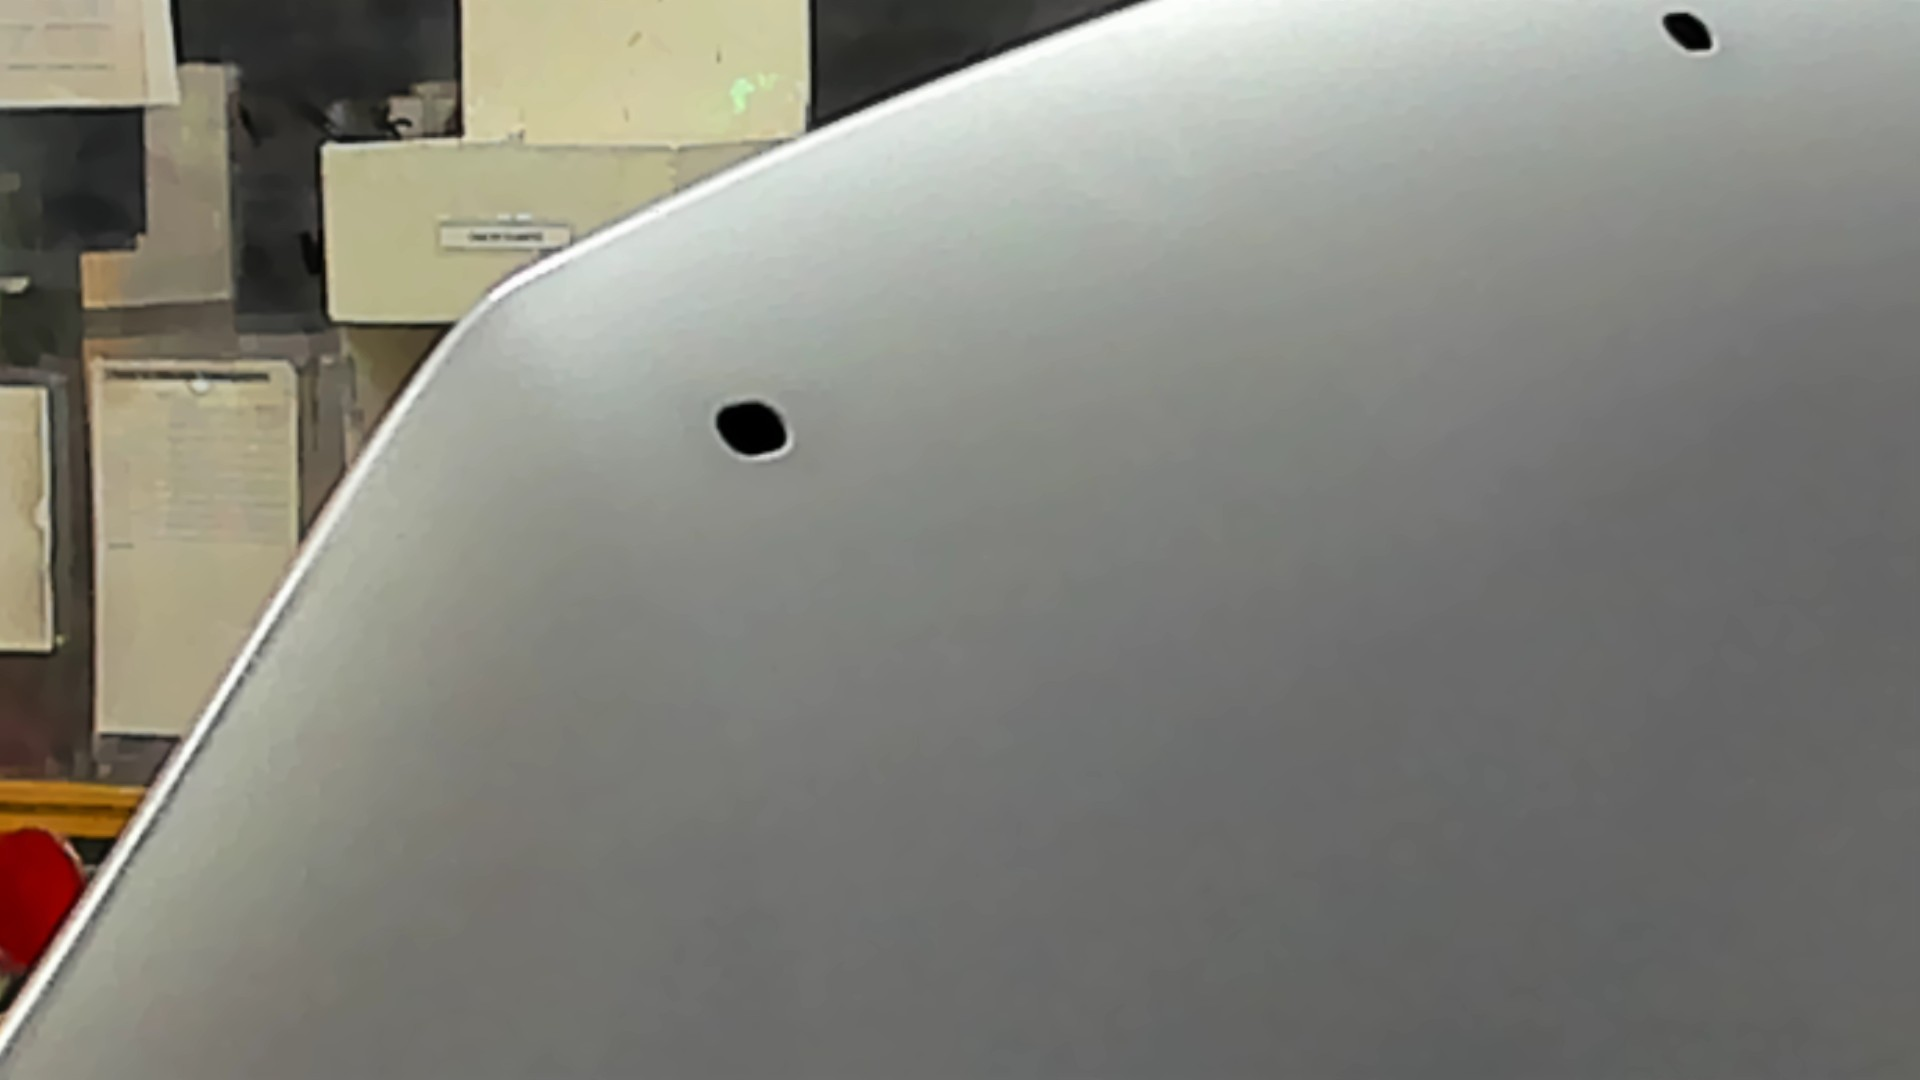chico: (702, 396, 811, 464), (1654, 4, 1729, 61)
